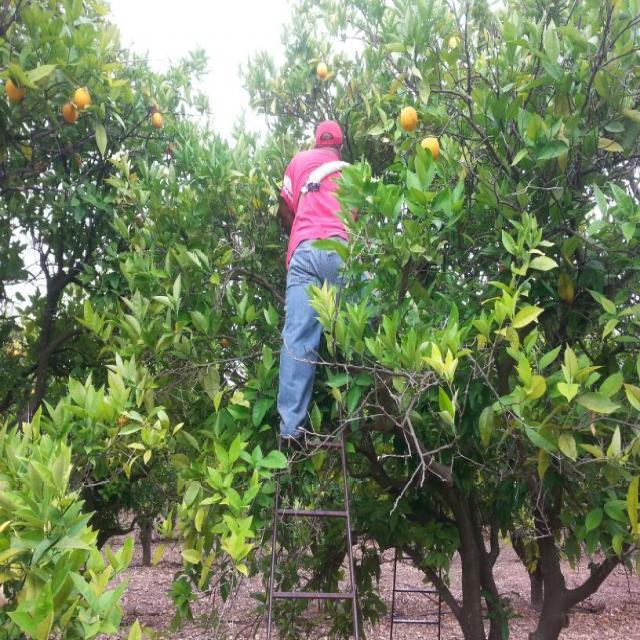Jeruk Sudah Matang: (416, 131, 446, 162), (397, 106, 420, 133), (70, 86, 94, 111), (5, 76, 25, 101), (61, 100, 80, 122), (313, 60, 330, 82), (150, 110, 166, 126)
